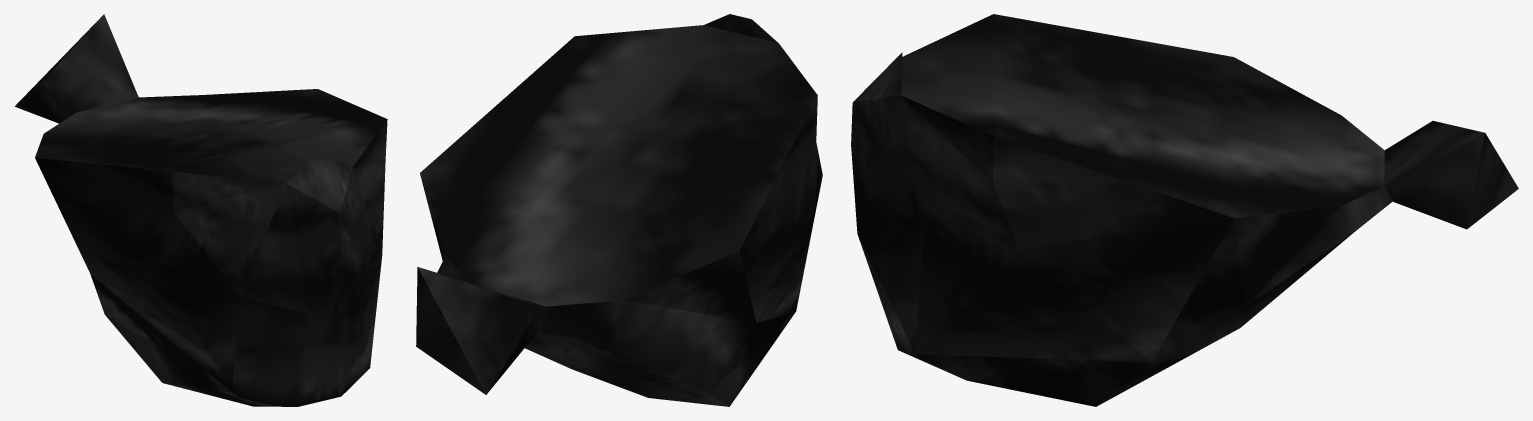
Rendered from CHUSTA_CZAR.glb.
The picture shows the model from 3 angles, left to right: view 1: azimuth 30°, elevation 25°; view 2: azimuth 150°, elevation 25°; view 3: azimuth 270°, elevation 25°; orthographic projection. The views are drawn at different scales.
Visible parts, largest first — view 1: CHUSTA_CZAR; view 2: CHUSTA_CZAR; view 3: CHUSTA_CZAR.
Part boxes in pixels (bbox=[...]): CHUSTA_CZAR: bbox=[15, 14, 387, 406]; CHUSTA_CZAR: bbox=[416, 14, 822, 406]; CHUSTA_CZAR: bbox=[851, 14, 1518, 406].
Size of the model in its own units: 0.1928 by 0.18 by 0.3386.
1 material, 1 textured.
